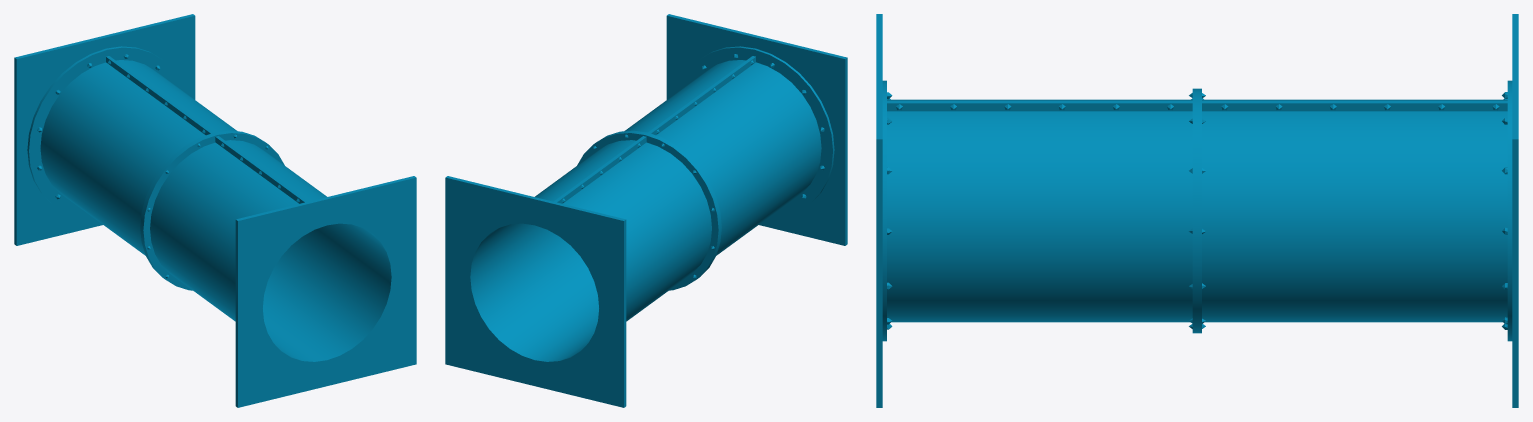
File: Tunnel.337bf211.glb
The picture shows the model from 3 angles, left to right: view 1: azimuth 30°, elevation 25°; view 2: azimuth 150°, elevation 25°; view 3: azimuth 270°, elevation 25°; orthographic projection. The views are drawn at different scales.
Parts seen in each view (by area): view 1: Circle001,_colorize_; view 2: Circle001,_colorize_; view 3: Circle001,_colorize_.
Boxes of the visible parts, <box> form: Circle001,_colorize_: <box>14,14,416,407</box>; Circle001,_colorize_: <box>445,14,847,407</box>; Circle001,_colorize_: <box>876,14,1518,407</box>.
Size of what is drawn, in the model's own units: 0.9144 by 0.9144 by 1.98.
